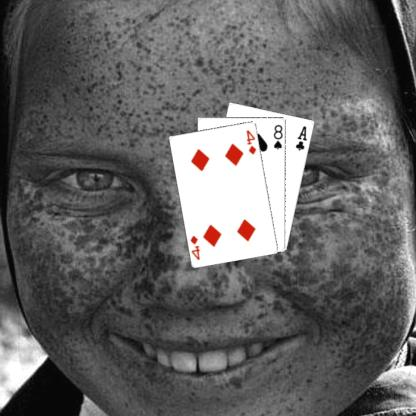4D: (245, 127, 260, 156), (190, 232, 203, 261)
8S: (273, 122, 285, 150)
AC: (295, 123, 310, 152)
